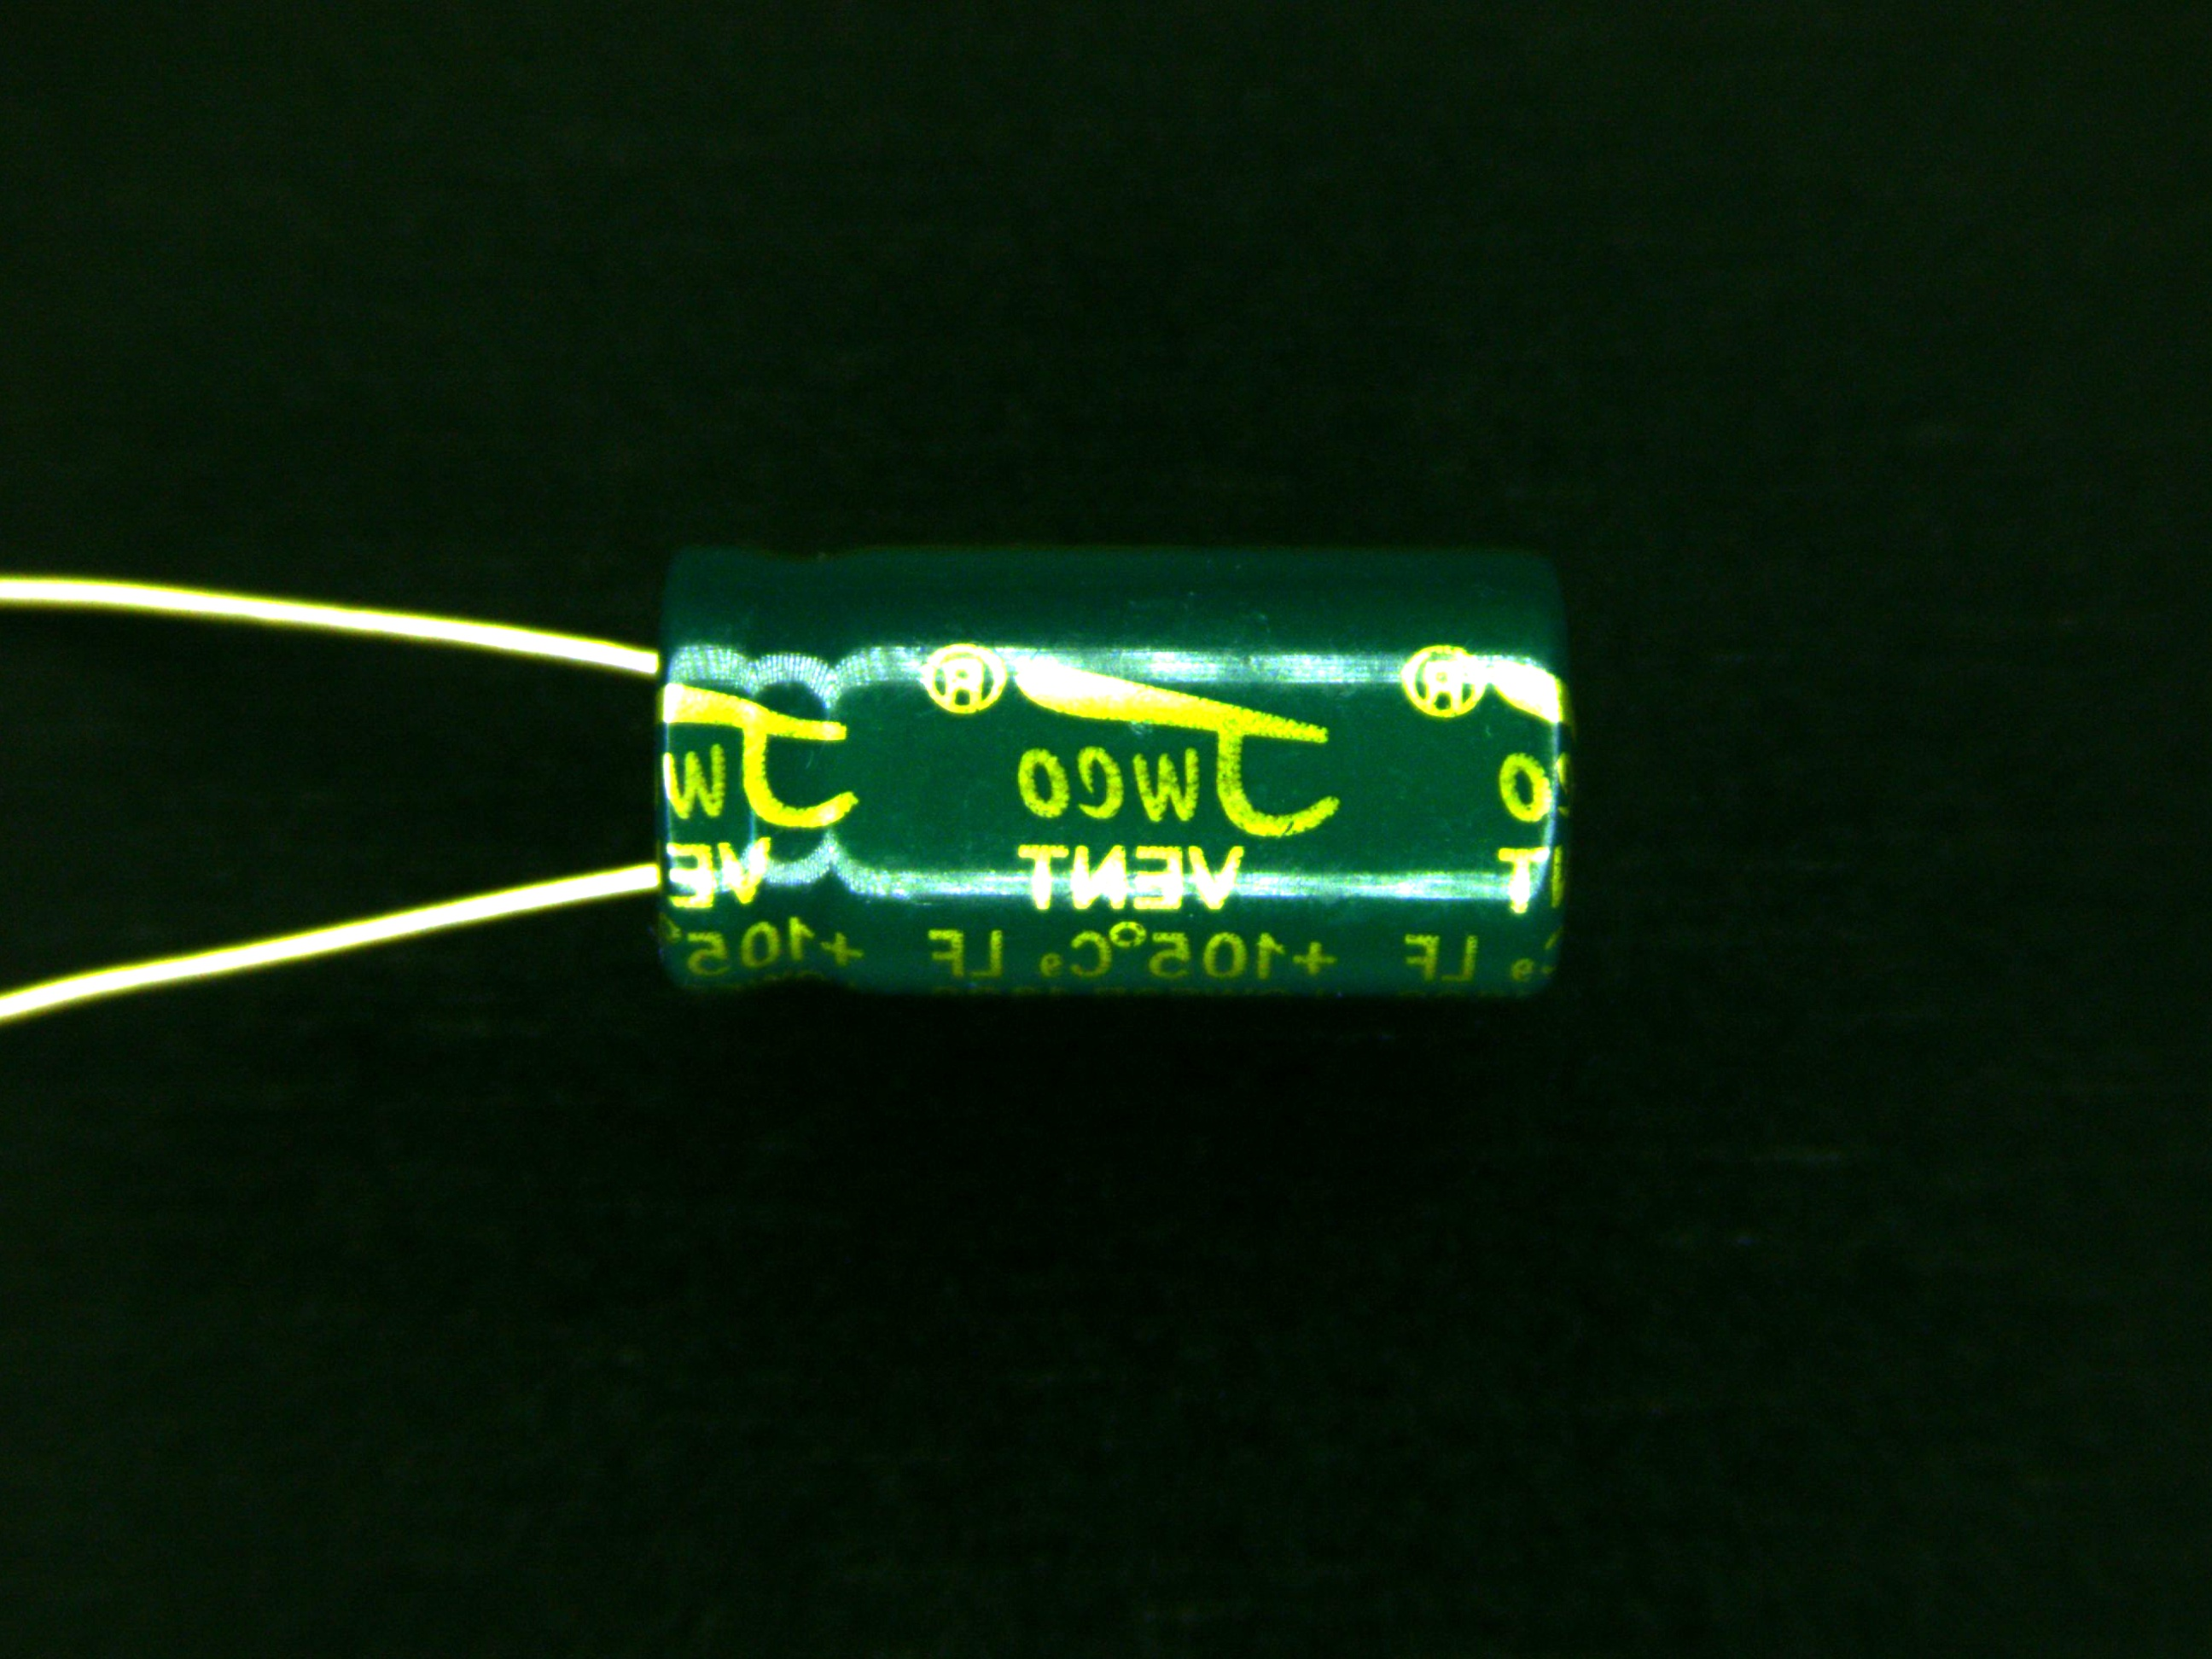c1: (514, 544, 1576, 1004)
